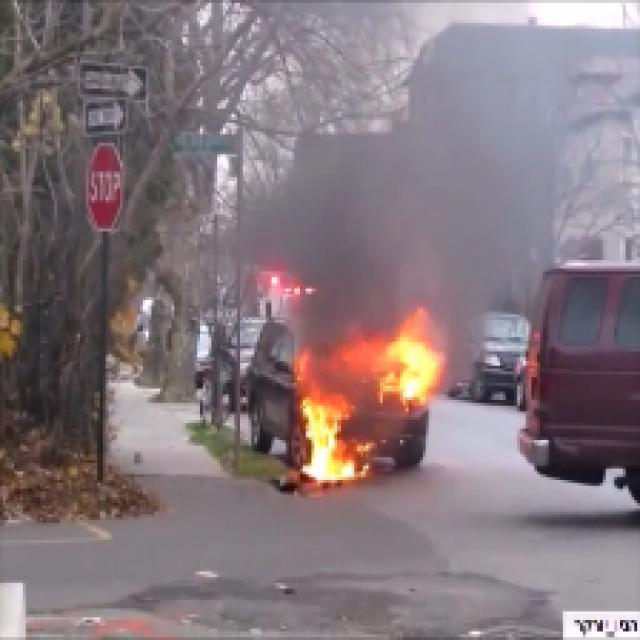fire: (298, 397, 357, 492), (384, 339, 438, 394)
smoke: (306, 130, 516, 301)
